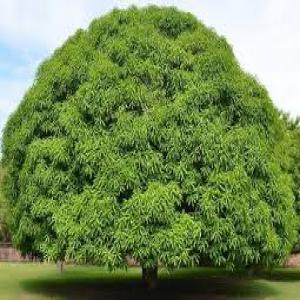Tree: (0, 0, 296, 287)
